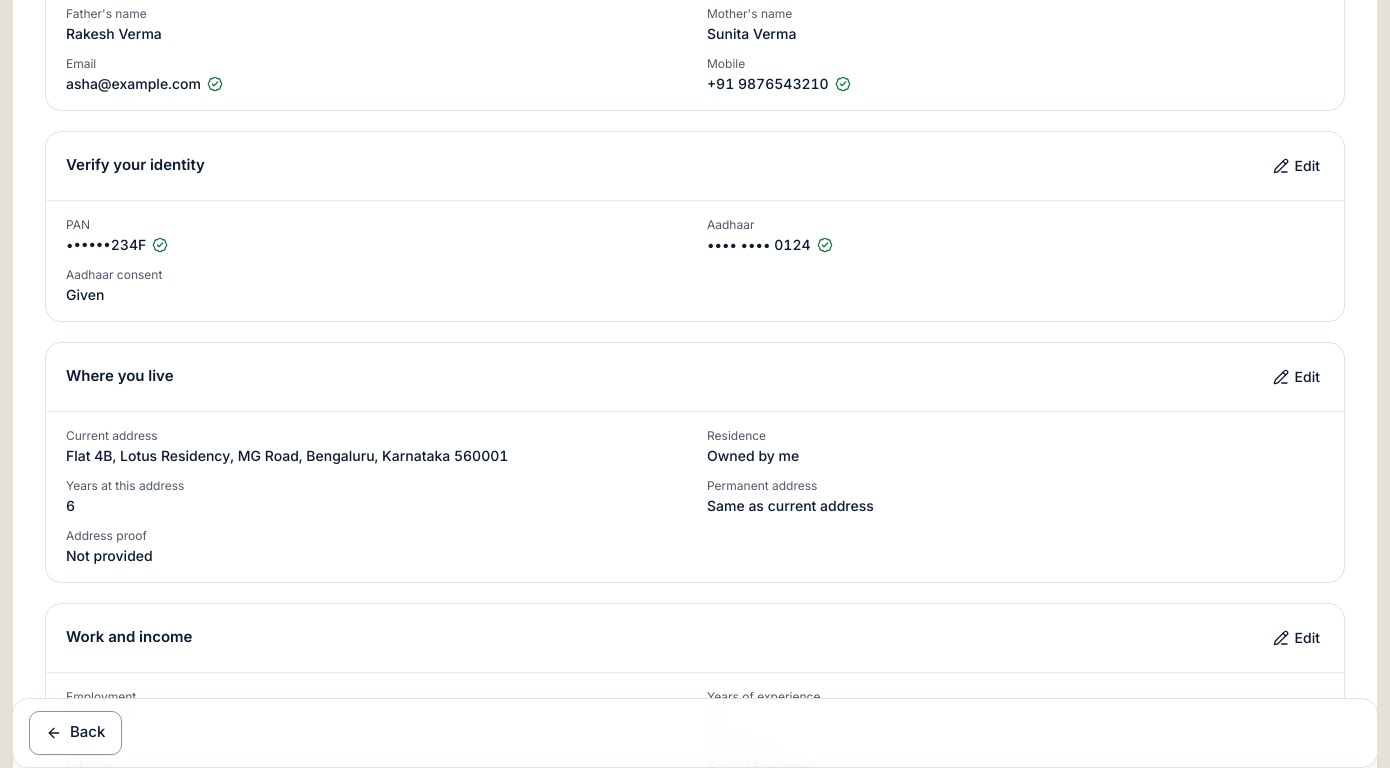
Step 8 — review and submit › jumps to a step from Edit and offers a way straight back
(page scrolled)
Click the button with aria-label "Edit Where you live" at (1296, 376), box top-left (1261, 354), bottom-right (1332, 398)
(page scrolled)
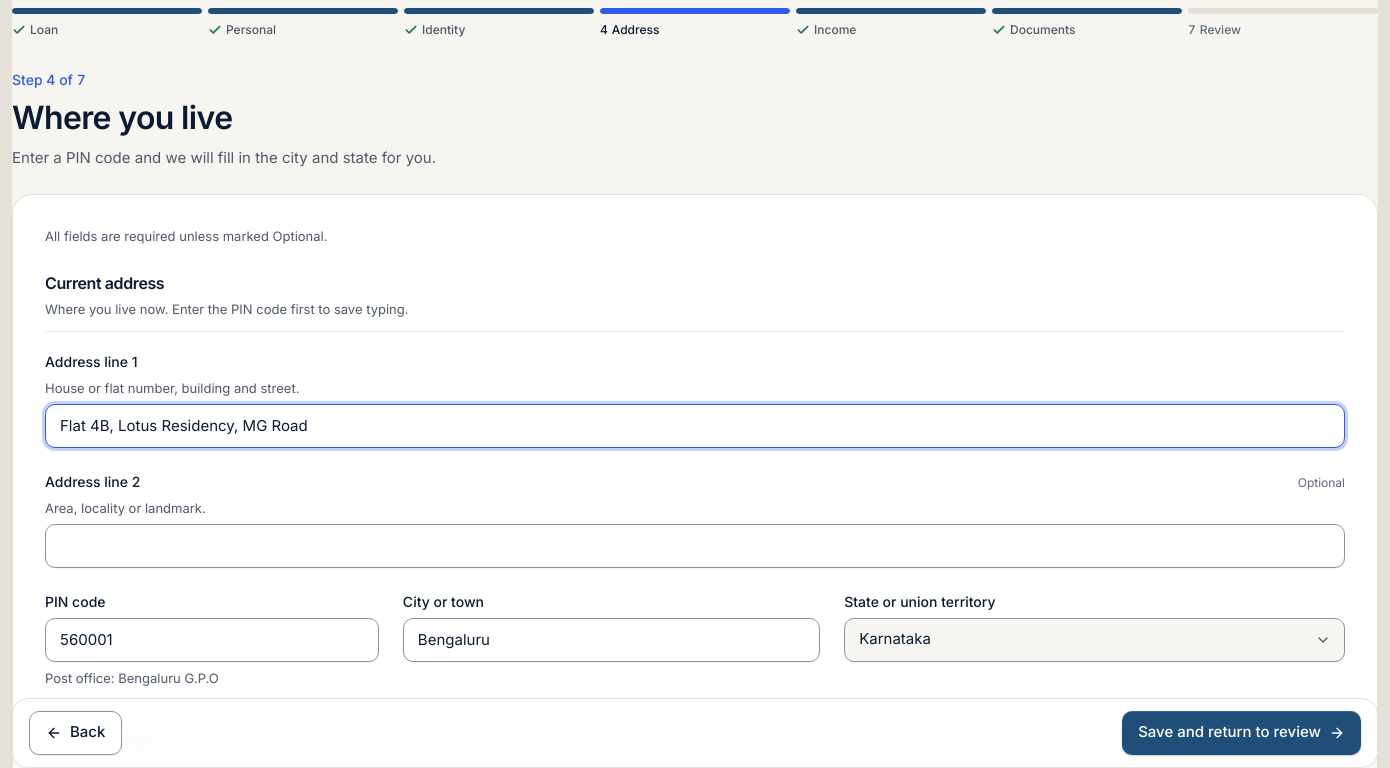
Result: the heading "Where you live" is shown at top-left (12, 98), bottom-right (232, 137)
